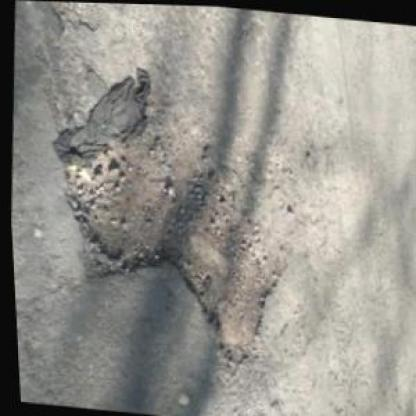pothole: (39, 96, 298, 373)
